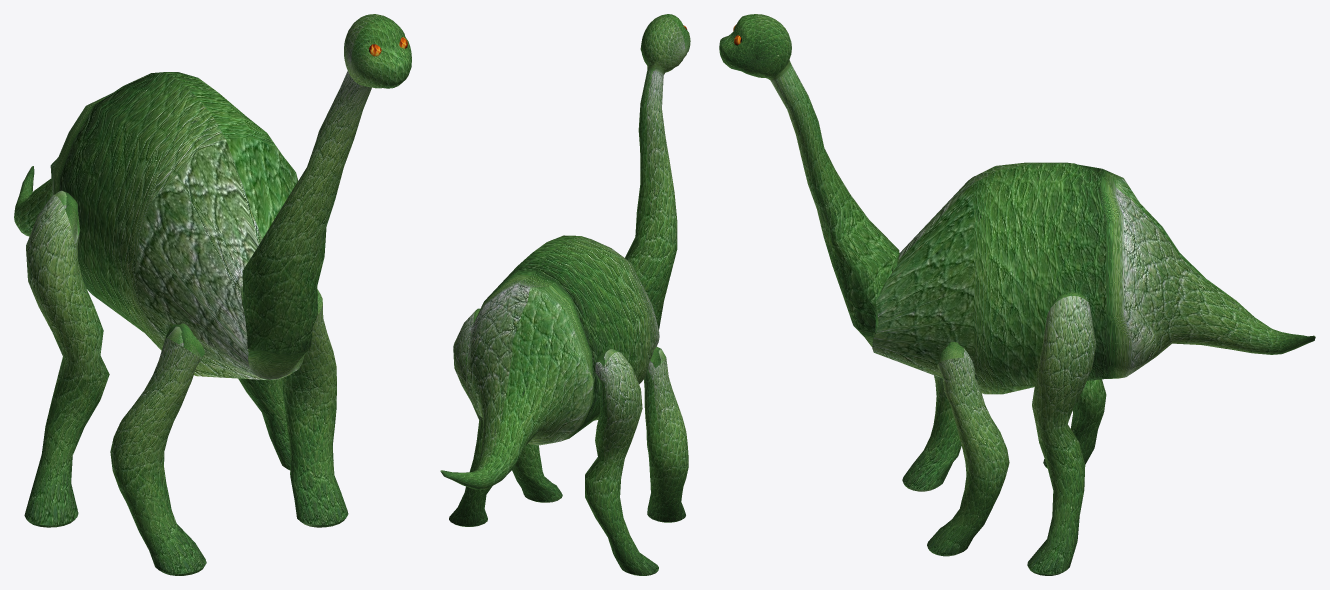
The model's file is Dino.FBX.
3 views of the same model, side by side, from view 1: azimuth 30°, elevation 25°; view 2: azimuth 150°, elevation 25°; view 3: azimuth 270°, elevation 25° (orthographic). The views are drawn at different scales.
Parts seen in each view (by area): view 1: Dino; view 2: Dino; view 3: Dino.
Part boxes in pixels (<box>): Dino: <box>14,14,411,575</box>; Dino: <box>440,14,690,575</box>; Dino: <box>719,14,1315,575</box>.
Bounding box in the file's own units: 171 × 333 × 353.
